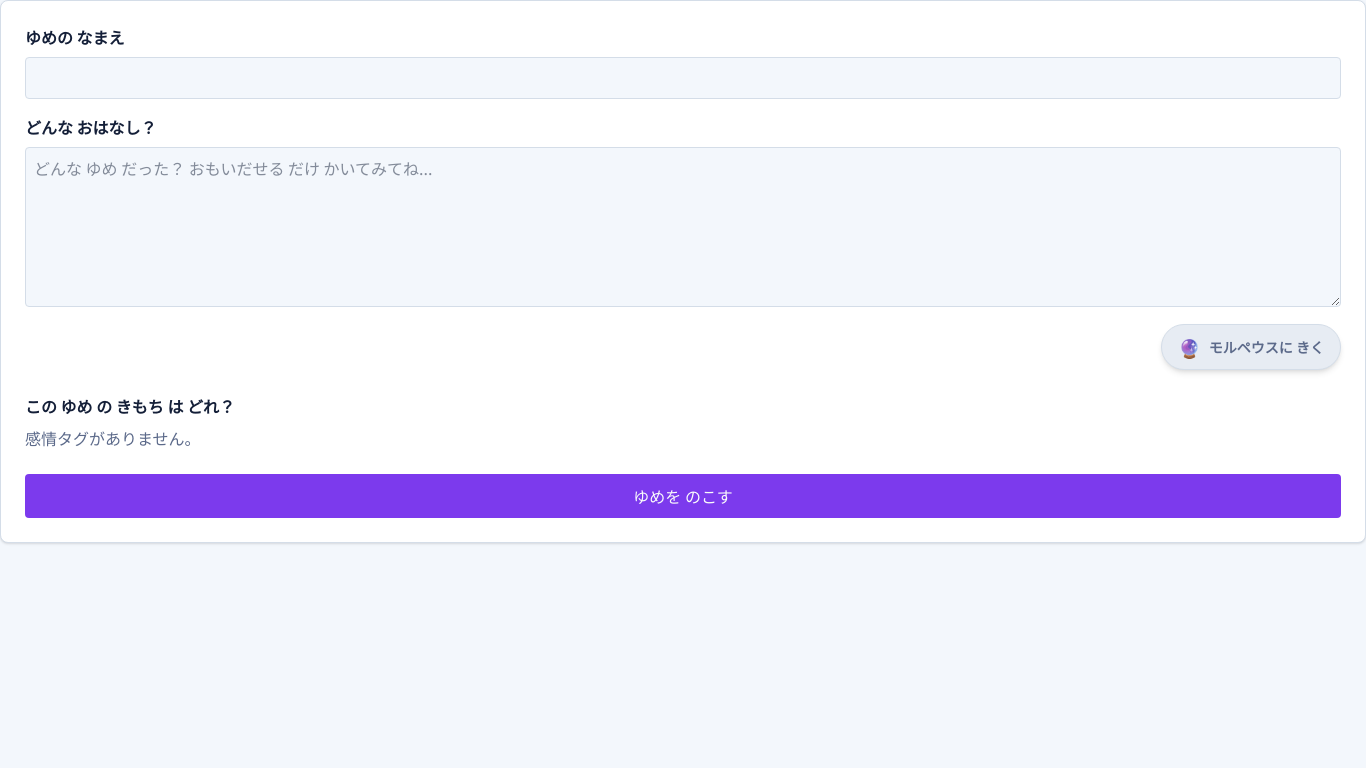
Test: DreamForm › links free analysis limit users to the premium subscription page
This screenshot has width=1366, height=768.
Type "空を飛ぶ夢" into the text box labelled "どんな おはなし？" at (683, 227), box [25,147,1341,307]
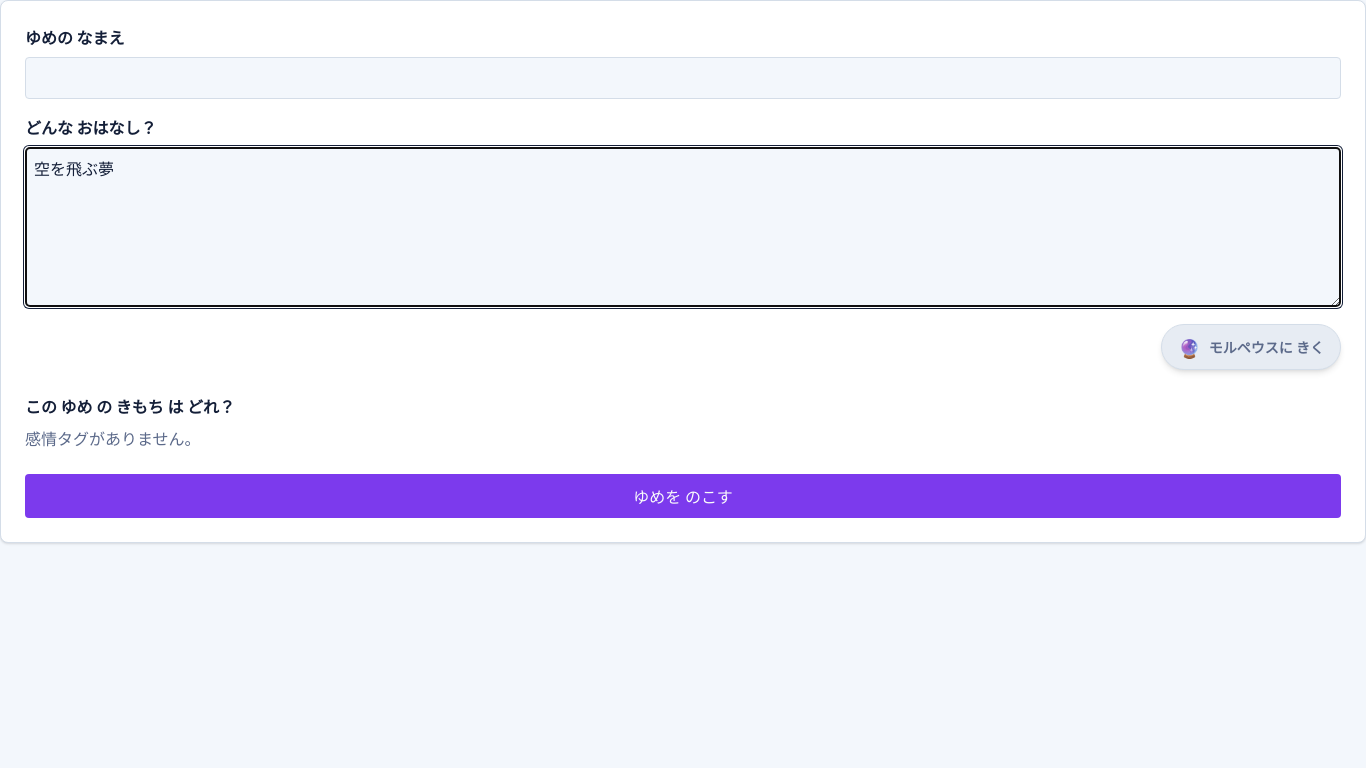
Click the button "🔮 モルペウスに きく" at (1251, 347), box [1161,324,1341,370]
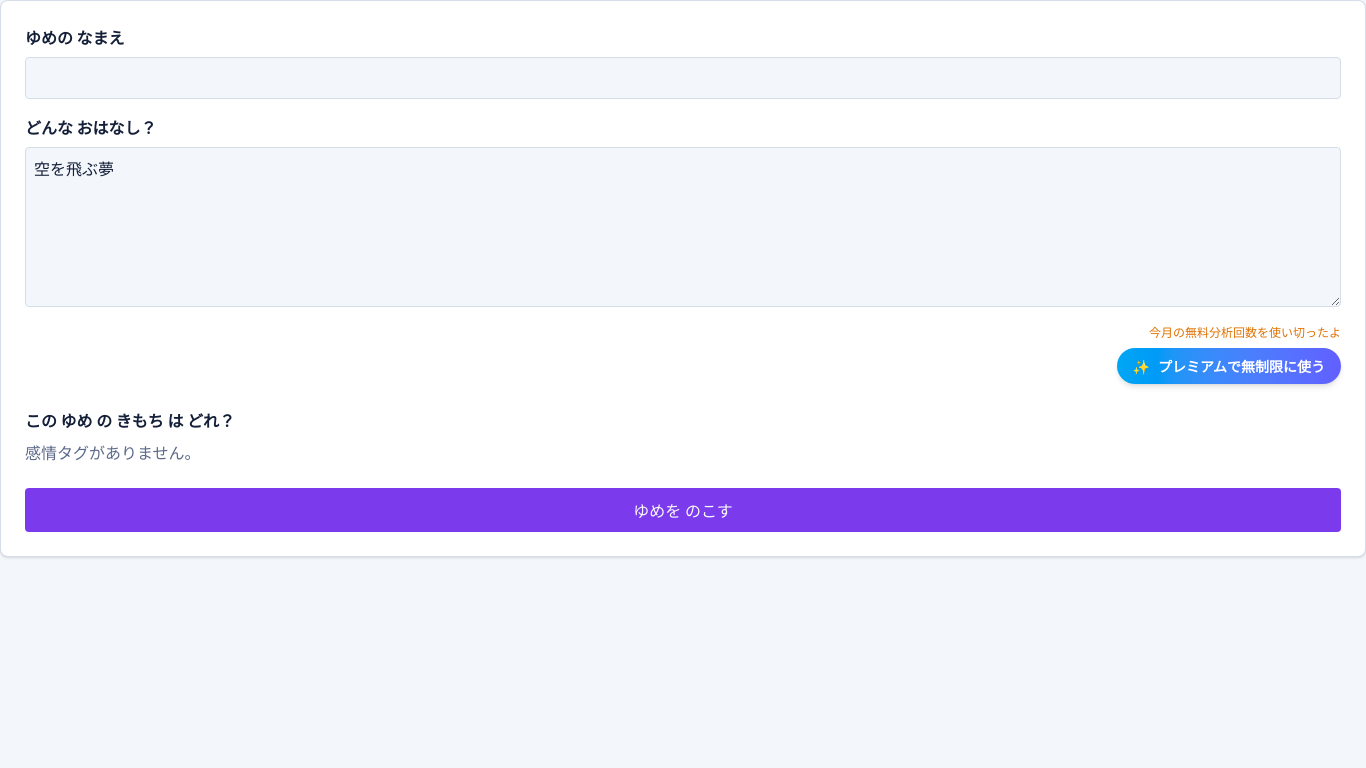
Expected: the text "今月の無料分析回数を使い切ったよ" is shown, [1149,324,1341,340]
